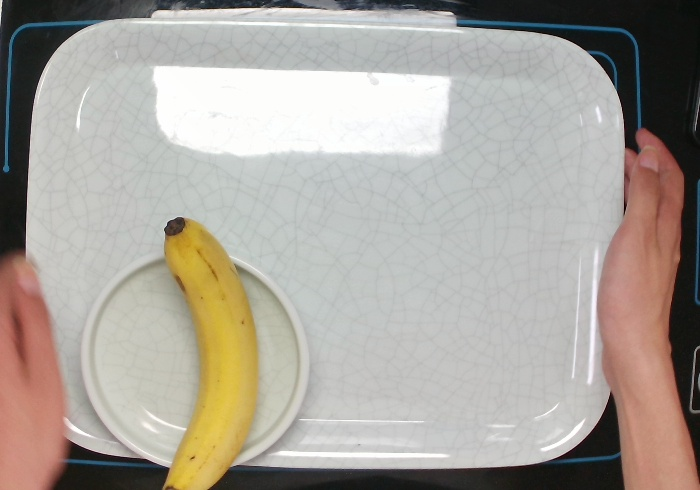JYsf-Xiao_Yuan_Pan: (79, 246, 311, 471)
